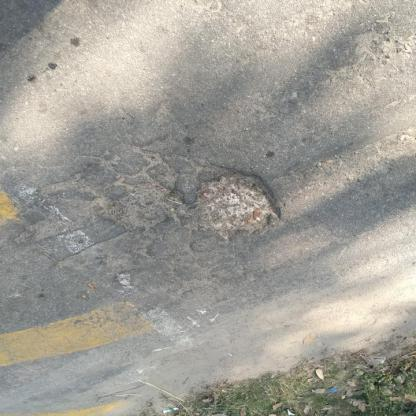pothole: (190, 168, 286, 242), (98, 180, 188, 235)
